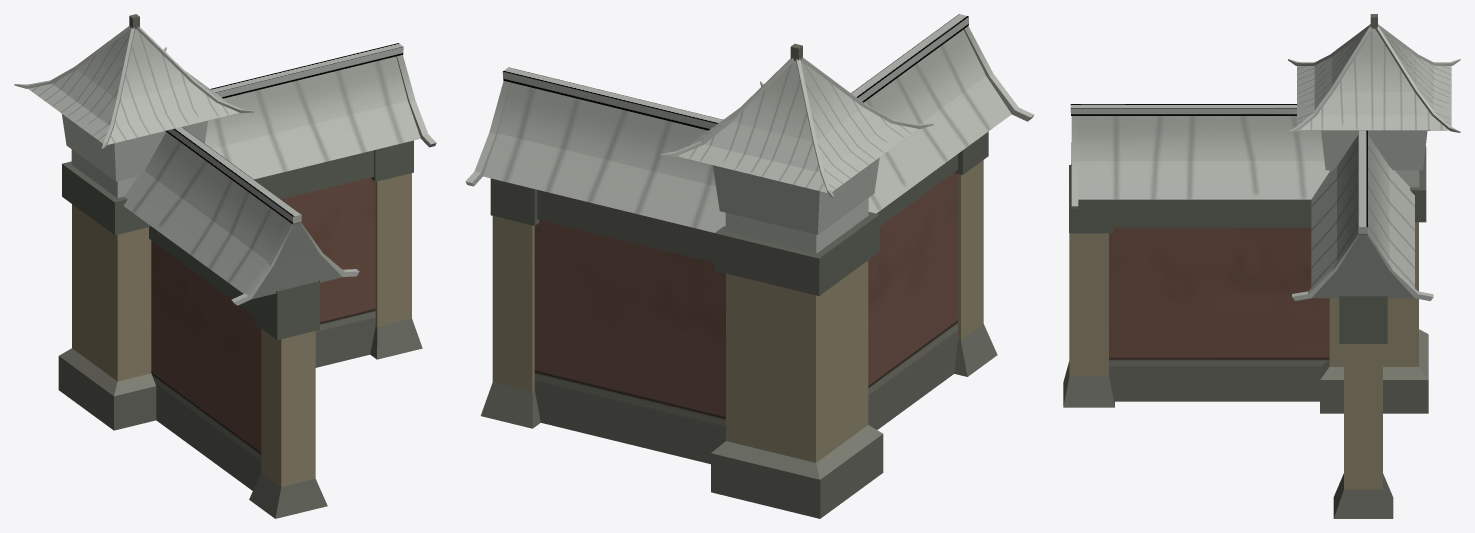
Rendered from Wall_11.FBX.
The picture shows the model from 3 angles, left to right: view 1: azimuth 30°, elevation 25°; view 2: azimuth 150°, elevation 25°; view 3: azimuth 270°, elevation 25°; orthographic projection. The views are drawn at different scales.
Visible parts, largest first — view 1: TS_Wall_10; view 2: TS_Wall_10; view 3: TS_Wall_10.
Boxes of the visible parts, box(x1,y1,x2,y2) form: TS_Wall_10: box(14, 14, 436, 518); TS_Wall_10: box(465, 14, 1034, 518); TS_Wall_10: box(1063, 14, 1460, 518).
Bounding box in the file's own units: 2.66 × 2.82 × 2.71.
